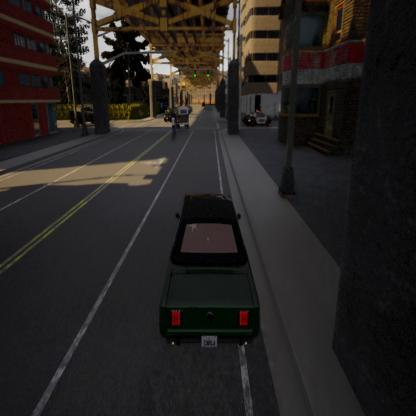Cars: (150, 171, 264, 361), (175, 101, 199, 144), (243, 104, 274, 132), (163, 103, 180, 131)
Pedestrian: (171, 115, 178, 142)
